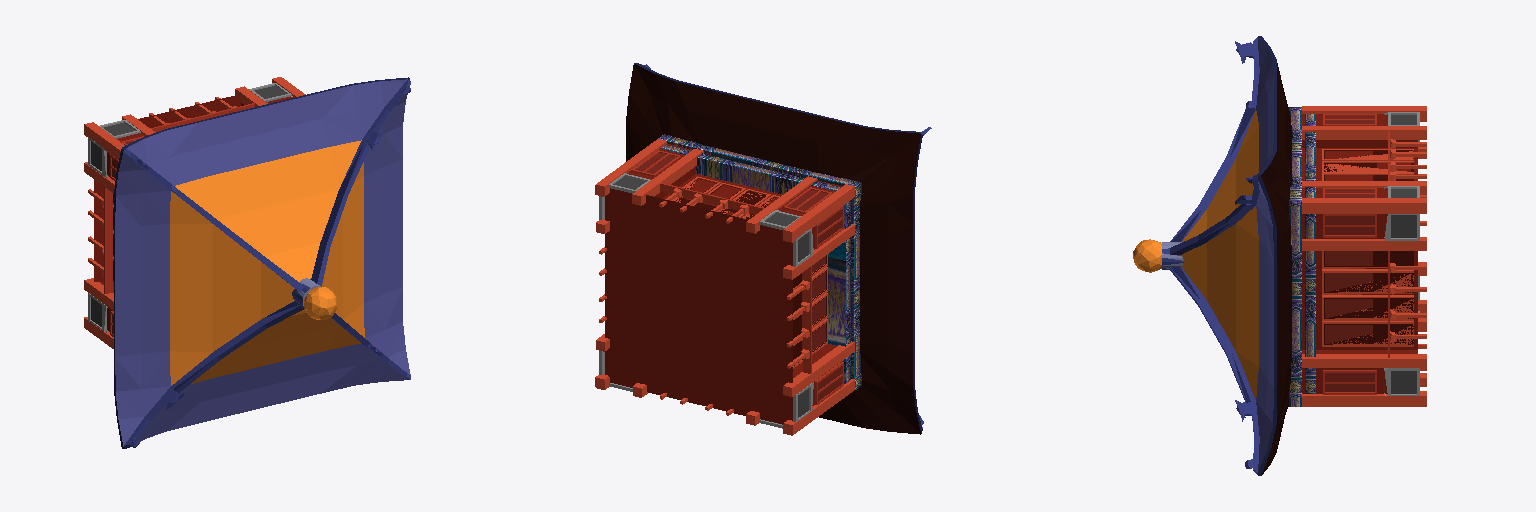
The picture shows the model from 3 angles: view 1: azimuth 30°, elevation 25°; view 2: azimuth 150°, elevation 25°; view 3: azimuth 270°, elevation 25°; orthographic projection.
Bounding box in the file's own units: 139 × 139 × 123.
Materials: 15 (1 with a texture image).